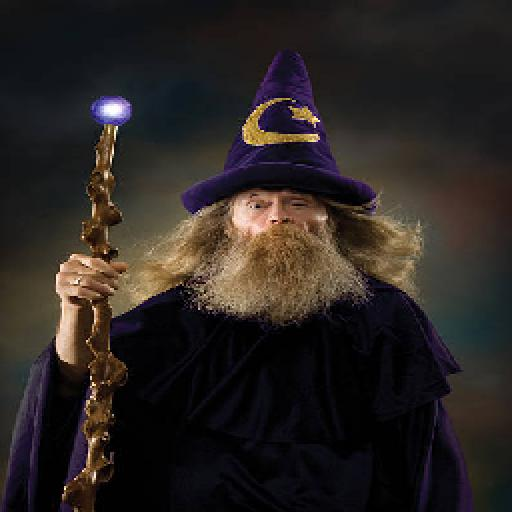wizards: (28, 45, 471, 512)
